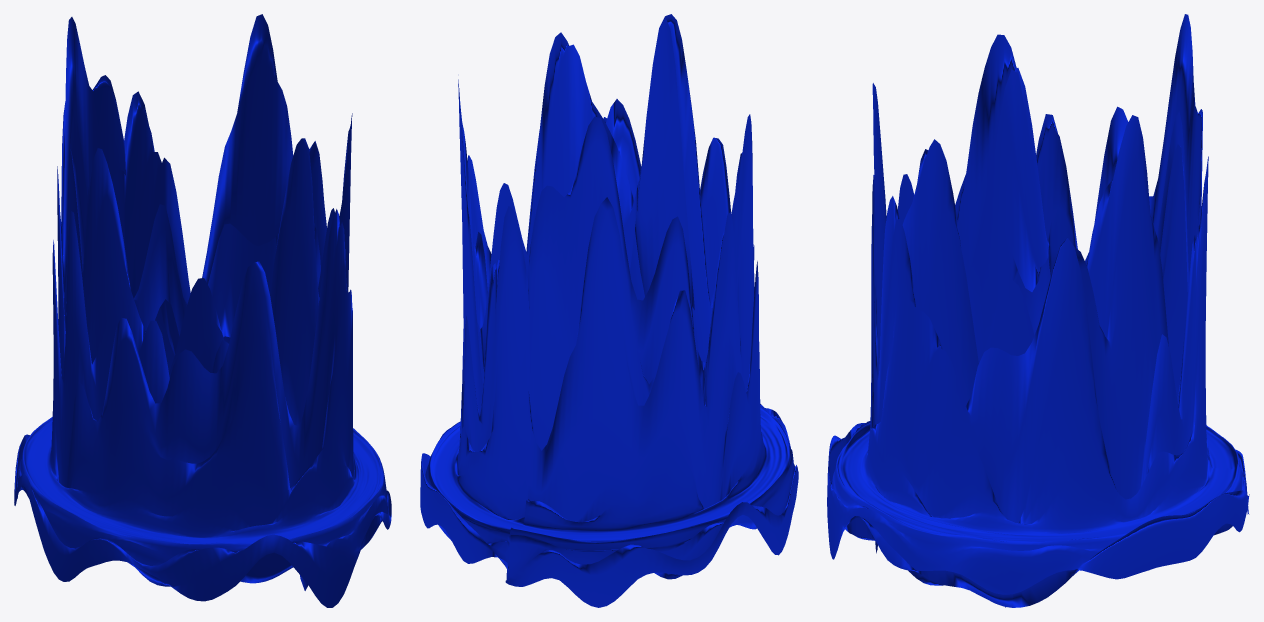
The model's file is splash.fbx.
3 renders of one model, left to right at view 1: azimuth 30°, elevation 25°; view 2: azimuth 150°, elevation 25°; view 3: azimuth 270°, elevation 25°, orthographic. The views are drawn at different scales.
Visible parts, largest first — view 1: Grid; view 2: Grid; view 3: Grid.
Part boxes in pixels (x1,y1,x2,y2): Grid: (14, 14, 391, 607); Grid: (420, 14, 798, 607); Grid: (827, 14, 1249, 607).
Bounding box in the file's own units: 103 × 153 × 116.
